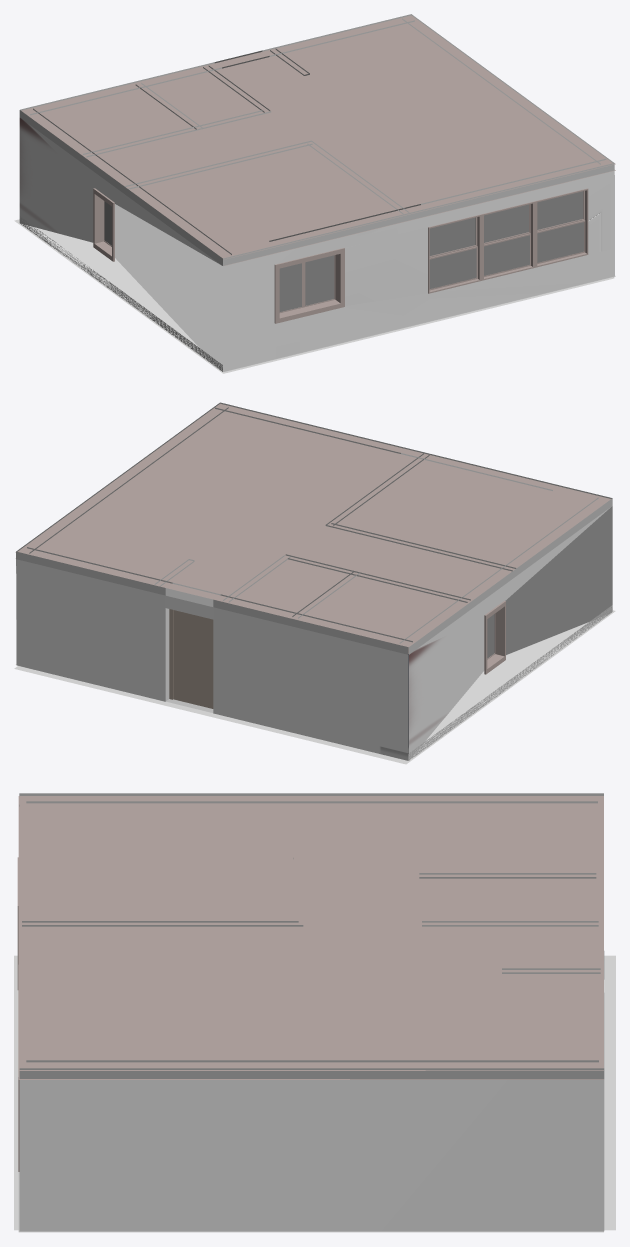
Rendered from appartamento_bigger.FBX.
The picture shows the model from 3 angles, top to bottom: view 1: azimuth 30°, elevation 25°; view 2: azimuth 150°, elevation 25°; view 3: azimuth 270°, elevation 25°; orthographic projection. The views are drawn at different scales.
Visible parts, largest first — view 1: soffitto001, muri, finestra salotto, INFISSO CAMERA DA LETTO, Plane001, INFISSO CAMERA DA LETTO001; view 2: soffitto001, muri, PORTA 002, Plane001, INFISSO CAMERA DA LETTO001; view 3: soffitto001, muri, Plane001, pavimento vero, soffitto.
Part boxes in pixels (box(x1,y1,x2,y2)): soffitto001: box(21, 15, 615, 259); muri: box(19, 14, 614, 371); finestra salotto: box(428, 188, 588, 293); INFISSO CAMERA DA LETTO: box(274, 248, 344, 323); Plane001: box(14, 219, 614, 373); INFISSO CAMERA DA LETTO001: box(93, 188, 114, 261); soffitto001: box(15, 403, 610, 647); muri: box(16, 402, 612, 760); PORTA 002: box(169, 609, 213, 708); Plane001: box(14, 610, 615, 764); INFISSO CAMERA DA LETTO001: box(484, 600, 505, 674); soffitto001: box(18, 796, 603, 1070); muri: box(19, 793, 604, 1231); Plane001: box(14, 955, 615, 1230); pavimento vero: box(18, 1172, 603, 1232); soffitto: box(18, 1071, 603, 1079).
Size of the model in its own units: 396 by 116 by 364.
